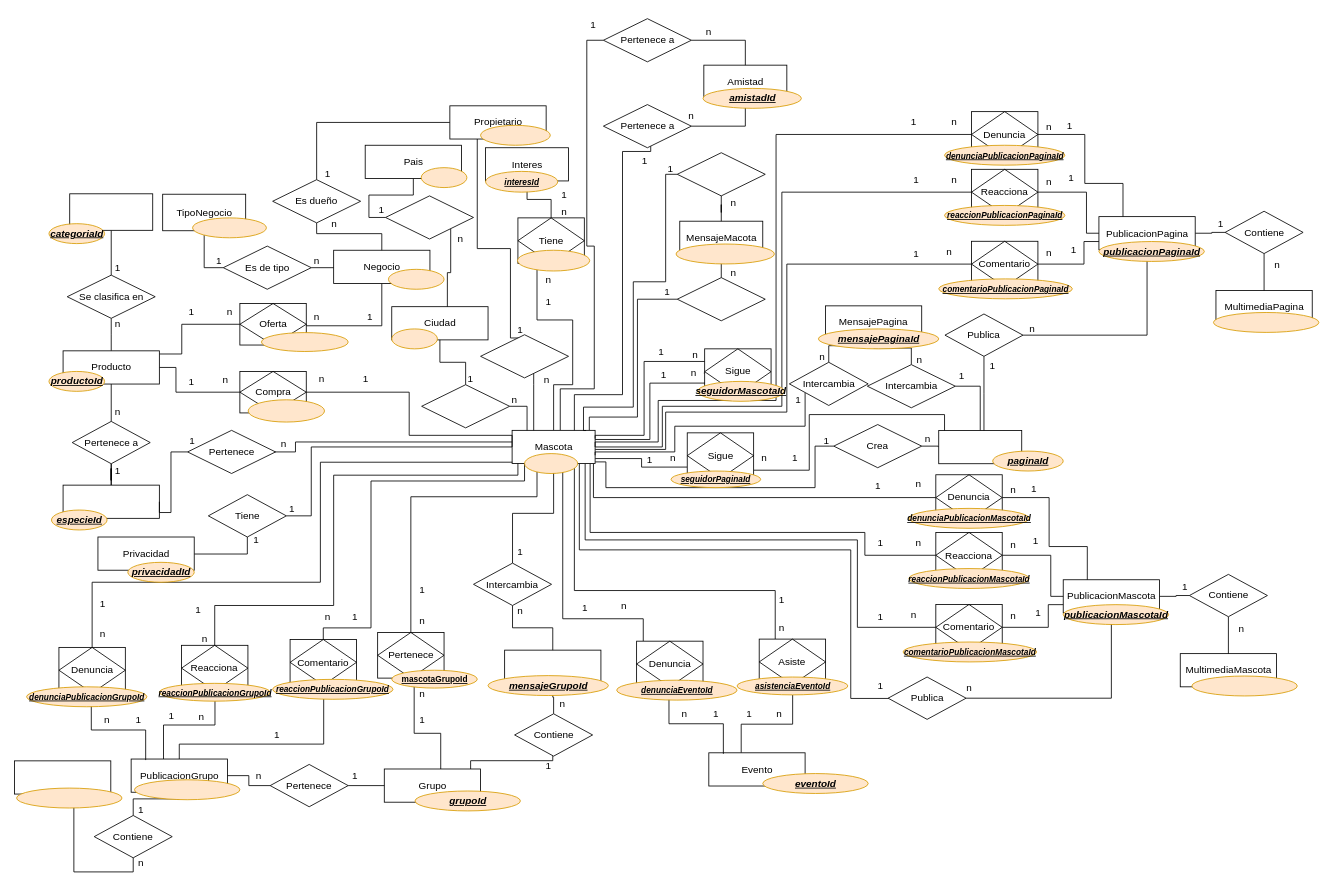
The diagram is 1334 pixels wide and 887 high, and some of its shapes have lost their labels. The box of each missing label's shape, as (x1, y1, x2, y2) in pixels:
Categoria: (69, 193, 153, 230)
ciudadId: (391, 328, 437, 349)
compraProdcutoId: (247, 399, 325, 422)
Envia: (676, 277, 765, 321)
Especie: (62, 484, 159, 518)
interesMacotaId: (517, 249, 590, 271)
mascotaId: (524, 453, 578, 474)
MensajeGrupo: (504, 649, 601, 683)
mensajeMascotaId: (675, 243, 774, 264)
MultimediaGrupo: (14, 760, 111, 794)
multimediaGrupoId: (16, 787, 122, 808)
multimediaMascotaId: (1191, 675, 1297, 696)
multimediaPaginaId: (1213, 312, 1319, 332)
negocioId: (388, 269, 444, 289)
Pagina: (938, 430, 1022, 464)
paisId: (420, 167, 467, 188)
Posee: (480, 334, 569, 378)
productoEnVentaId: (261, 332, 348, 352)
propietarioId: (480, 124, 550, 145)
publicacionGrupoId: (134, 779, 240, 800)
Recibe: (676, 152, 765, 196)
Se localiza: (421, 384, 510, 428)
Se ubica en: (385, 195, 474, 239)
tipoNegocioId: (192, 217, 266, 238)
